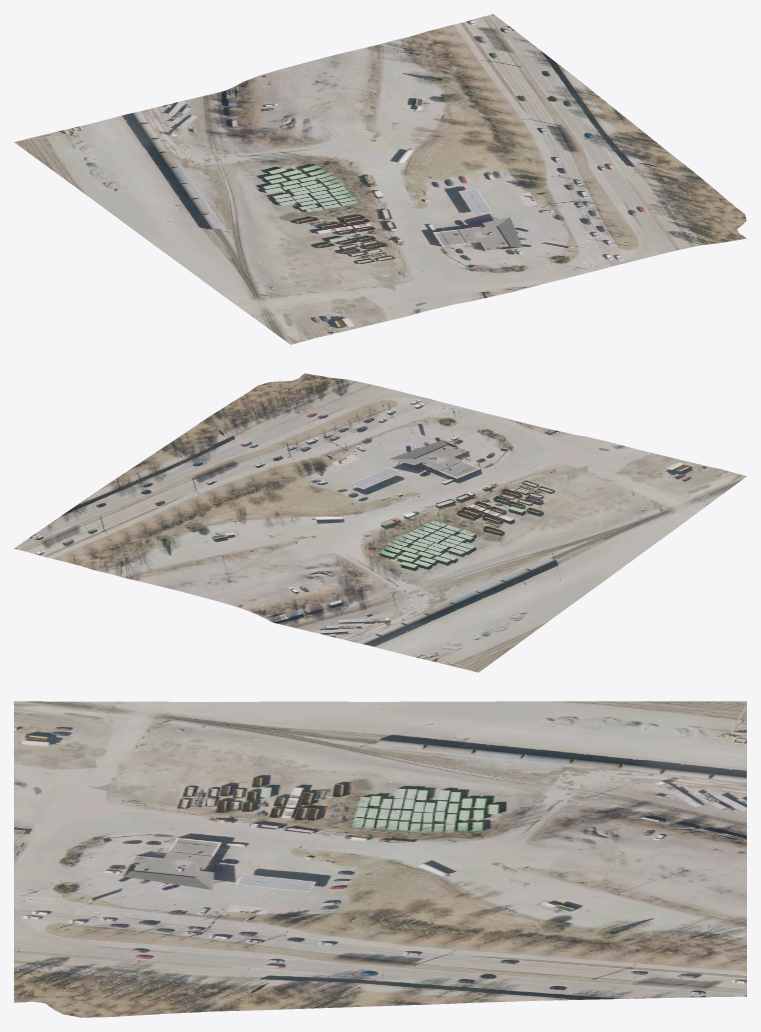
Rendered from CM_Terrain_24488001_6819589.fbx.
3 renders of one model, top to bottom at view 1: azimuth 30°, elevation 25°; view 2: azimuth 150°, elevation 25°; view 3: azimuth 270°, elevation 25°, orthographic. The views are drawn at different scales.
Visible parts, largest first — view 1: CM_Terrain_24488001_6819589_LOD0; view 2: CM_Terrain_24488001_6819589_LOD0; view 3: CM_Terrain_24488001_6819589_LOD0.
Boxes of the visible parts, x1,y1,x2,y2 form: CM_Terrain_24488001_6819589_LOD0: [14, 14, 746, 344]; CM_Terrain_24488001_6819589_LOD0: [14, 373, 746, 672]; CM_Terrain_24488001_6819589_LOD0: [14, 701, 746, 1017].
Size of what is drawn, in the model's own units: 205 by 6.5 by 205.
